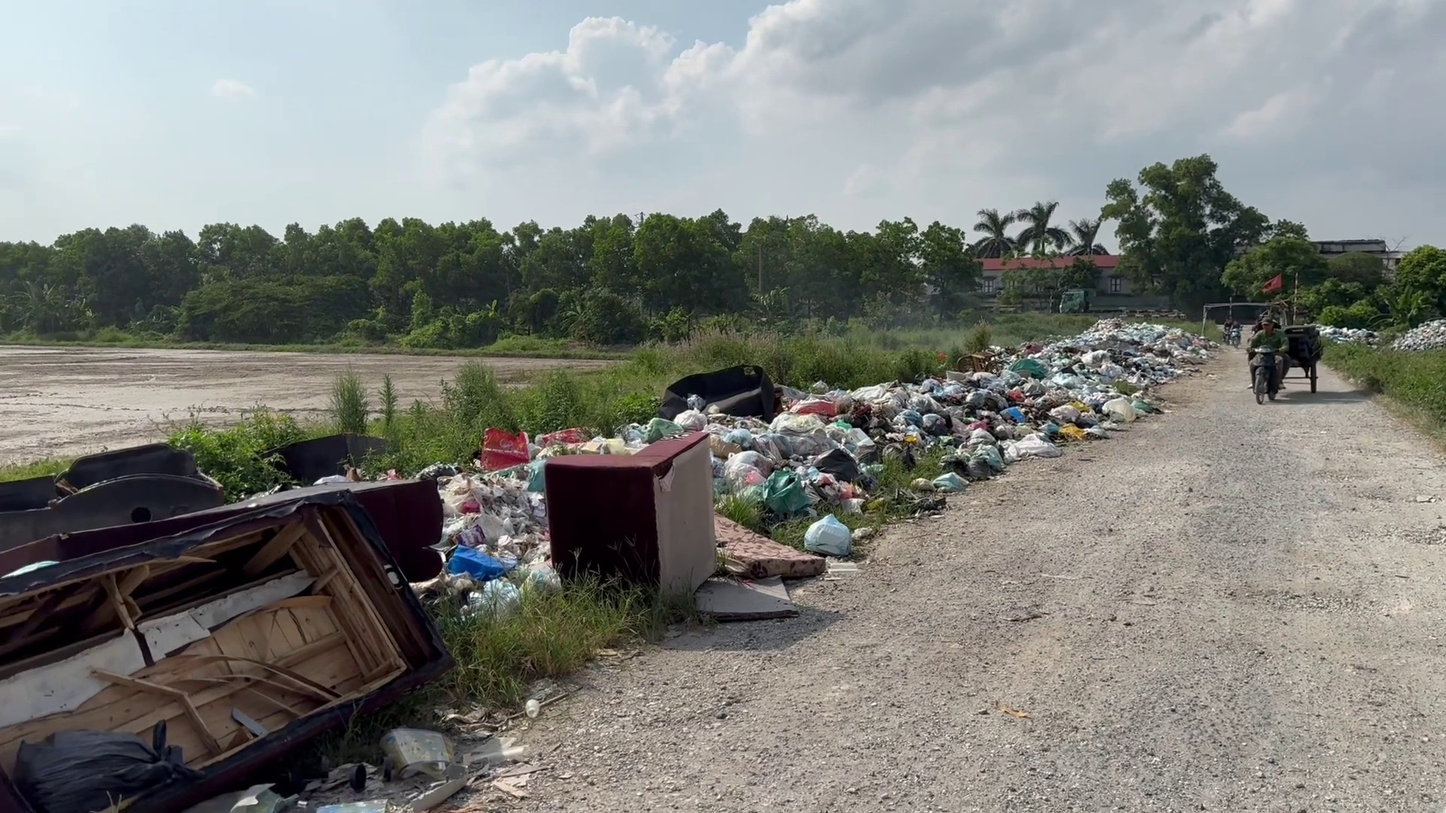garbage: (0, 721, 249, 810), (1, 455, 246, 531), (305, 714, 471, 812), (434, 536, 517, 592), (751, 460, 829, 516)
